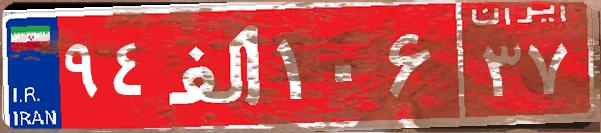0: (330, 28, 385, 110)
1: (273, 28, 330, 110)
3: (475, 38, 525, 113)
4: (110, 28, 158, 105)
6: (385, 28, 445, 110)
7: (525, 38, 570, 115)
9: (57, 26, 110, 107)
الف: (158, 15, 273, 115)
